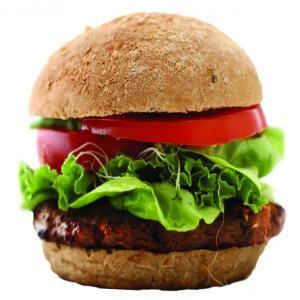cheeseburger_475cal: (20, 10, 286, 291)
